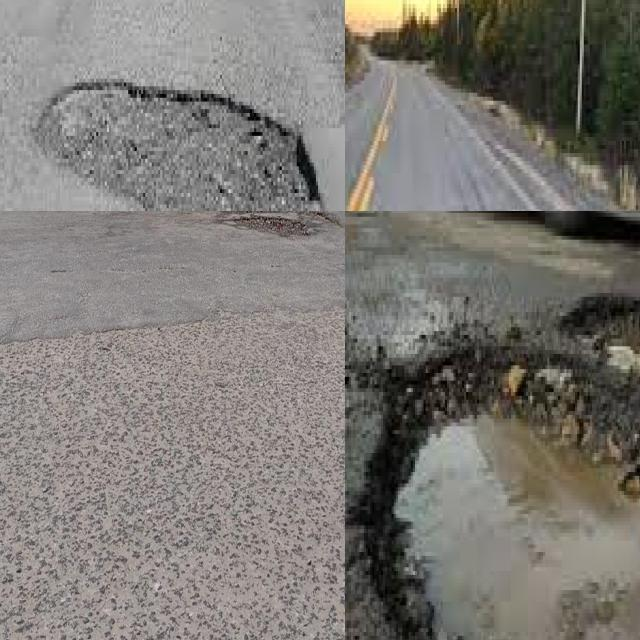Pothole: (360, 297, 640, 640), (28, 83, 324, 211), (212, 211, 311, 240)
